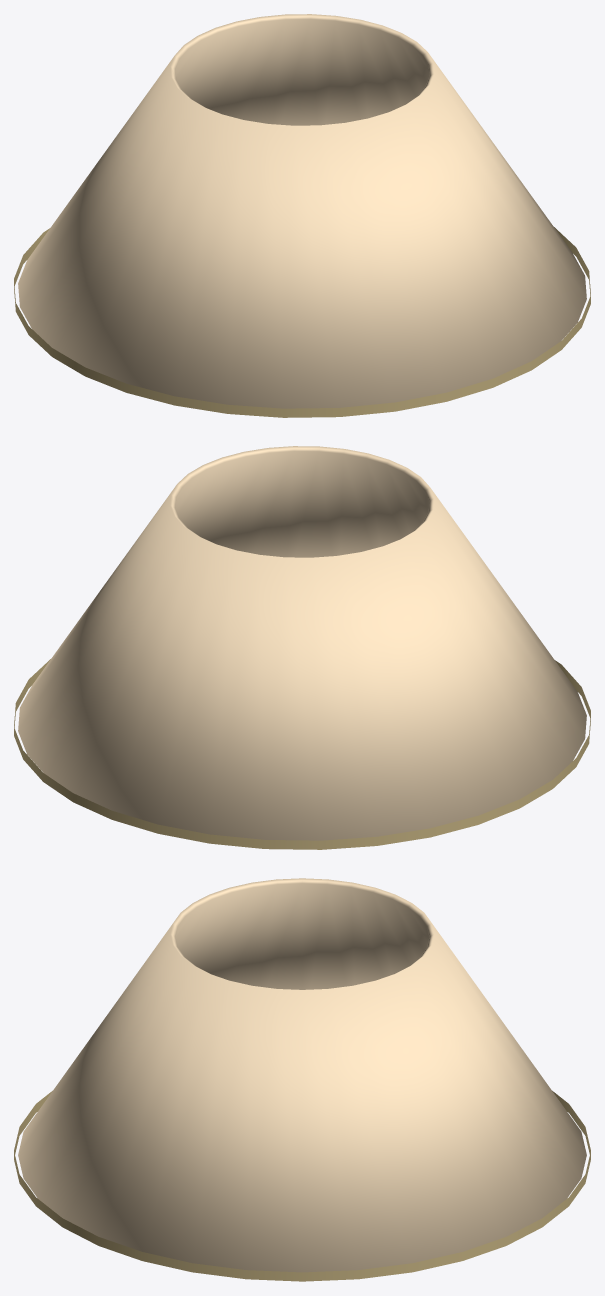
The model's file is shade.glb.
3 renders of one model, top to bottom at view 1: azimuth 30°, elevation 25°; view 2: azimuth 150°, elevation 25°; view 3: azimuth 270°, elevation 25°, orthographic.
Visible parts, largest first — view 1: shade, rim; view 2: shade, rim; view 3: shade, rim.
Boxes of the visible parts, x1,y1,x2,y2 form: shade: [18, 14, 586, 408]; rim: [14, 227, 590, 417]; shade: [18, 446, 586, 840]; rim: [14, 659, 590, 849]; shade: [18, 878, 586, 1272]; rim: [14, 1091, 590, 1281].
Bounding box in the file's own units: 0.568 × 0.245 × 0.568.
